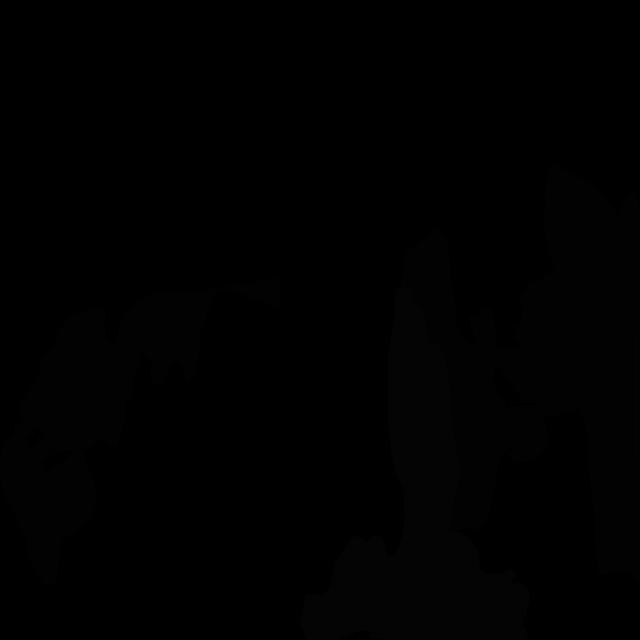cardboard: (19, 277, 282, 455), (468, 163, 617, 417), (400, 225, 517, 531), (571, 333, 640, 582), (0, 423, 97, 586), (571, 191, 640, 379), (508, 406, 548, 464)
soft_plastic: (300, 287, 530, 640)
